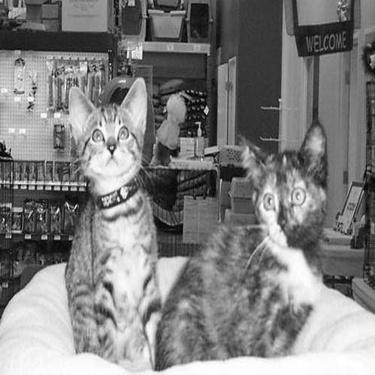cat: (15, 60, 173, 369), (151, 131, 359, 353)
